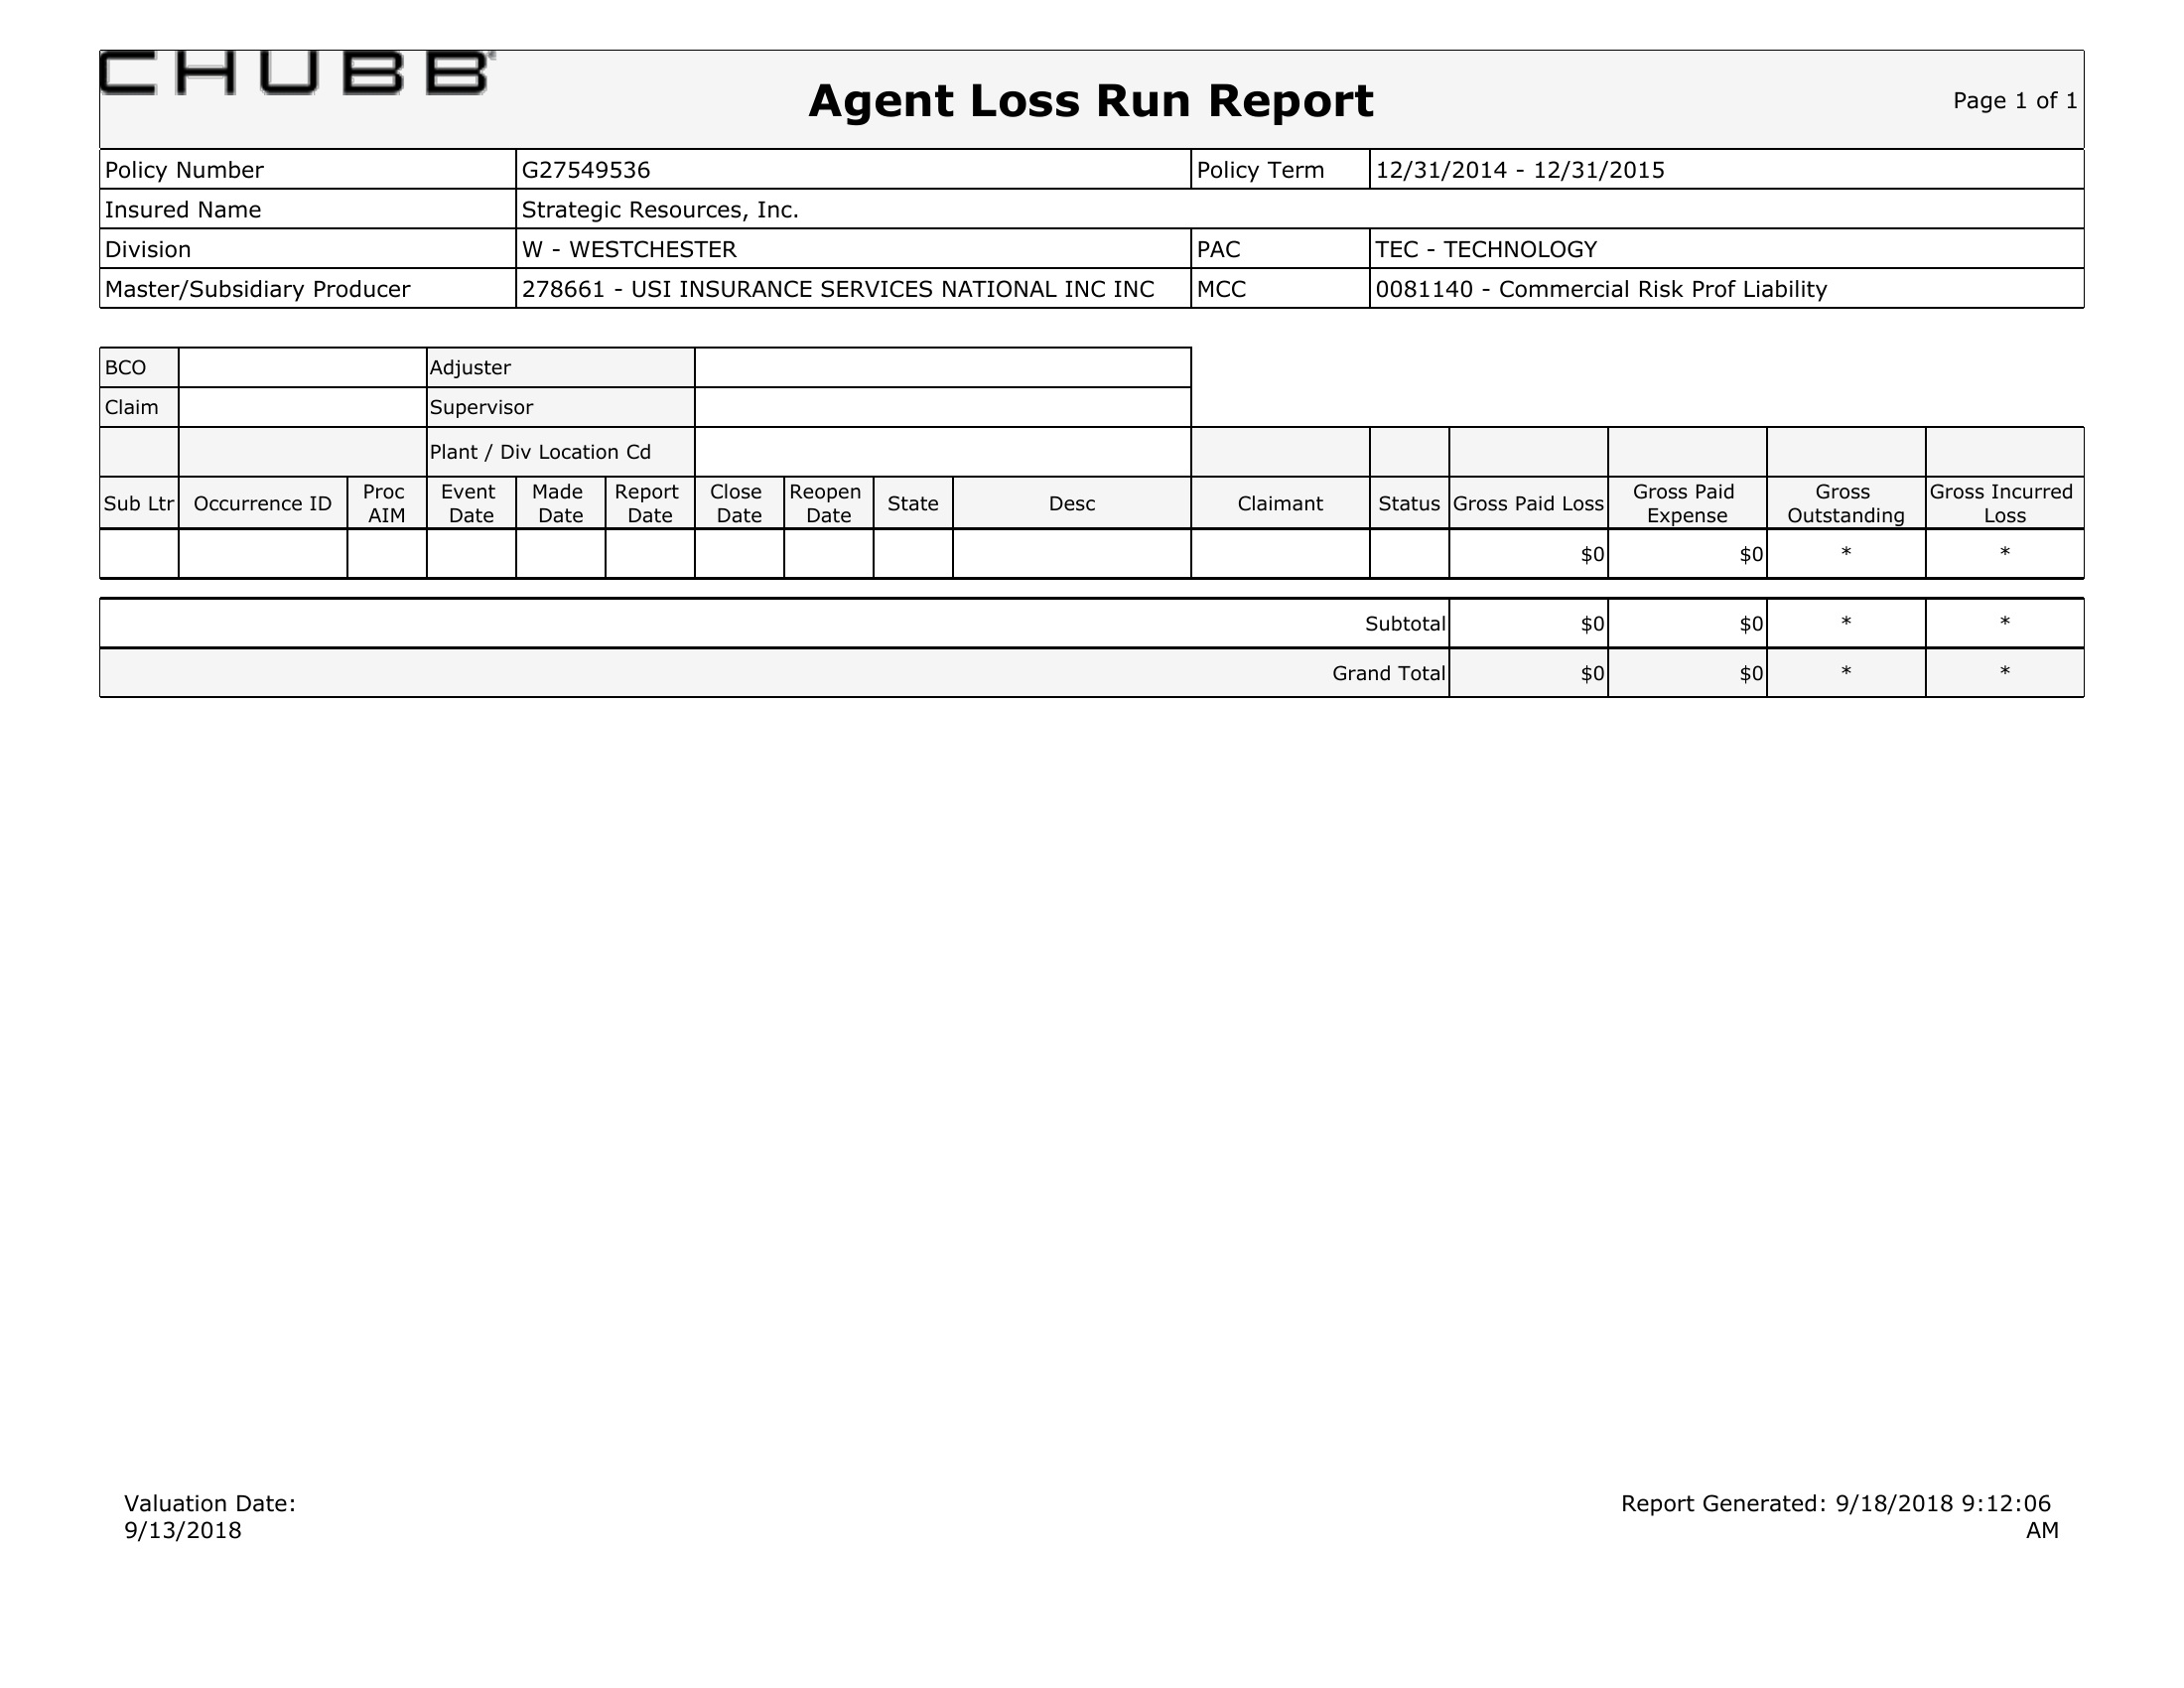No-loss: (87, 470, 2095, 725)
